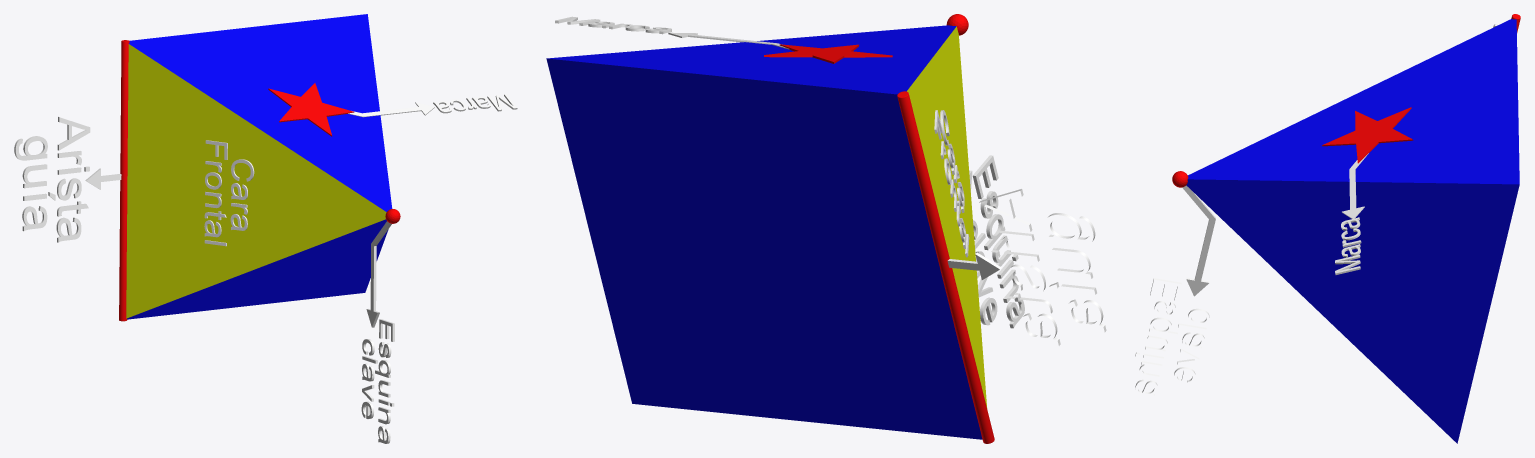
The model's file is piramide.glb.
3 renders of one model, left to right at view 1: azimuth 30°, elevation 25°; view 2: azimuth 150°, elevation 25°; view 3: azimuth 270°, elevation 25°, orthographic. The views are drawn at different scales.
Visible parts, largest first — view 1: Pyramid002, AristaGuia, EsquinaClave, arista, CaraFrontal, Marca/Patron, Marca; view 2: Pyramid002, arista, EsquinaClave, AristaGuia, CaraFrontal, Marca/Patron, Marca; view 3: Pyramid002, EsquinaClave, Marca/Patron, Marca.
Boxes of the visible parts, x1=… form: Pyramid002: x1=126, y1=14, x2=392, y2=319; AristaGuia: x1=14, y1=117, x2=121, y2=242; EsquinaClave: x1=361, y1=221, x2=394, y2=443; arista: x1=119, y1=40, x2=129, y2=321; CaraFrontal: x1=204, y1=140, x2=254, y2=246; Marca/Patron: x1=268, y1=83, x2=354, y2=136; Marca: x1=348, y1=94, x2=517, y2=117; Pyramid002: x1=546, y1=25, x2=987, y2=439; arista: x1=897, y1=91, x2=994, y2=443; EsquinaClave: x1=969, y1=155, x2=1024, y2=328; AristaGuia: x1=947, y1=189, x2=1106, y2=345; CaraFrontal: x1=934, y1=110, x2=969, y2=257; Marca/Patron: x1=764, y1=44, x2=892, y2=63; Marca: x1=555, y1=16, x2=789, y2=49; Pyramid002: x1=1186, y1=19, x2=1519, y2=443; EsquinaClave: x1=1135, y1=185, x2=1215, y2=395; Marca/Patron: x1=1322, y1=107, x2=1413, y2=163; Marca: x1=1335, y1=153, x2=1368, y2=274.
Bounding box in the file's own units: 1.11 × 0.7484 × 0.7815.
